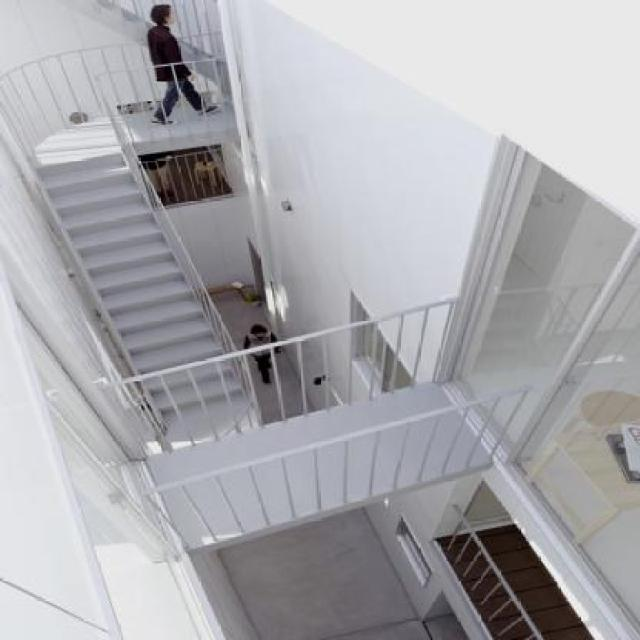stair: (1, 136, 264, 452)
